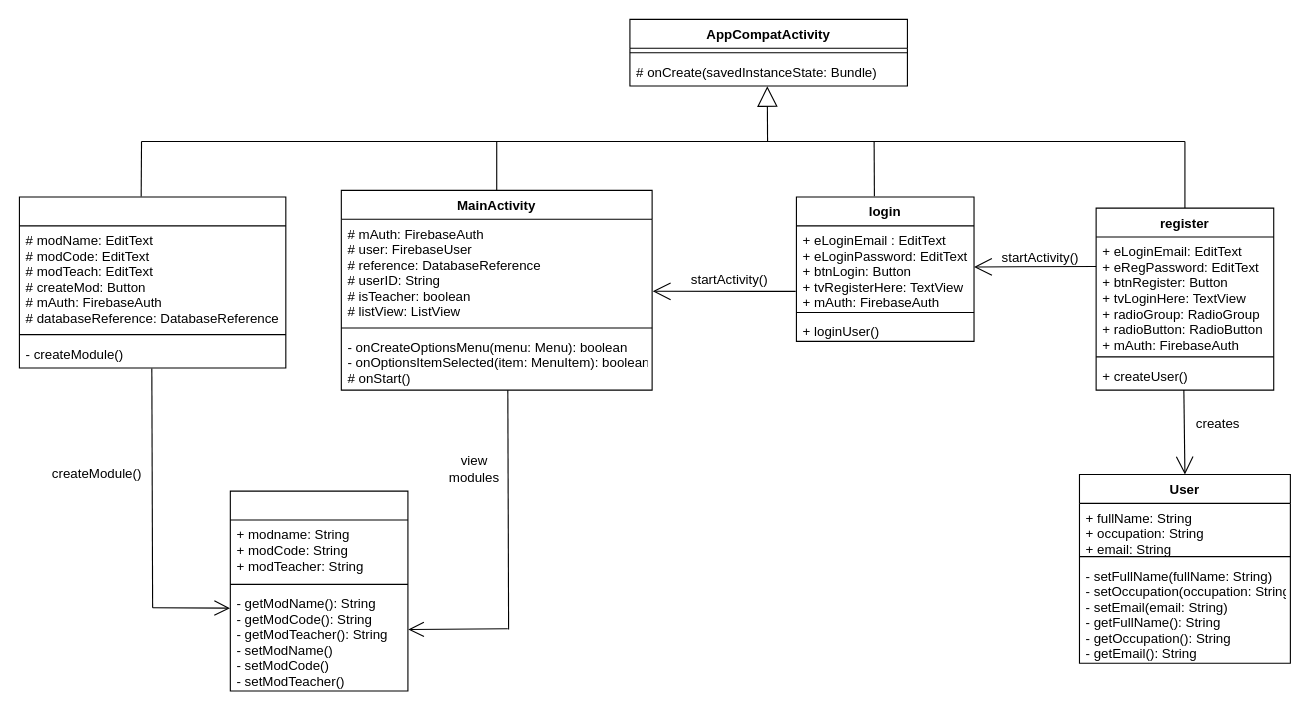
The diagram is 1313 pixels wide and 714 high, and some of its shapes have lost their labels. The shapes that lost their labels are listed below. From the top down, each one's box as (x1, y1, x2, y2) in pixels, then its label:
(18, 196, 286, 368): addModule
(229, 490, 408, 691): module
